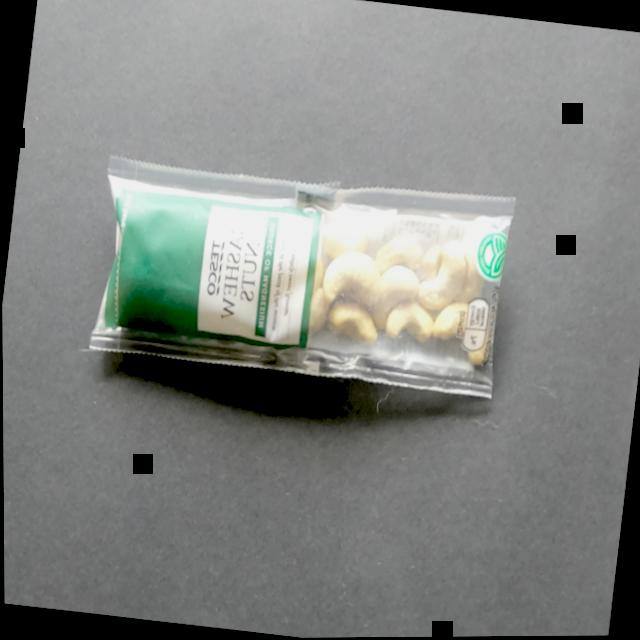Cashewnut: (21, 106, 541, 455)
